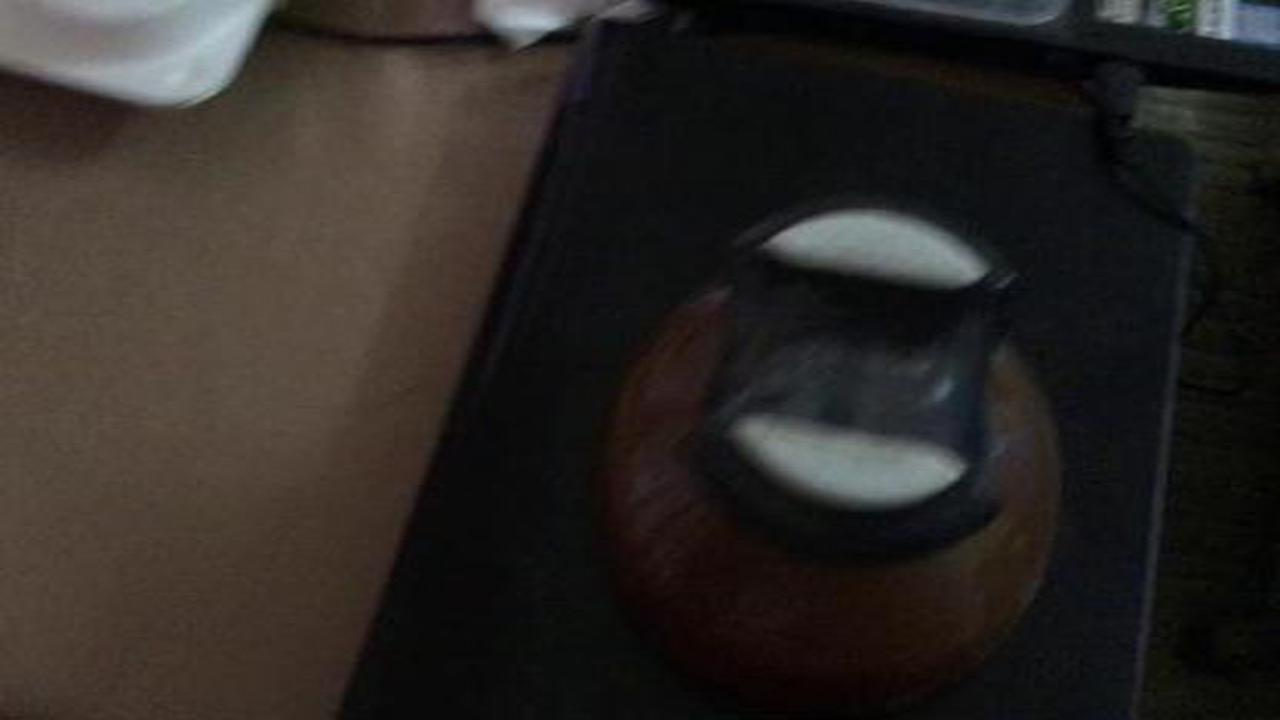insulator_pin: (579, 181, 1090, 701)
